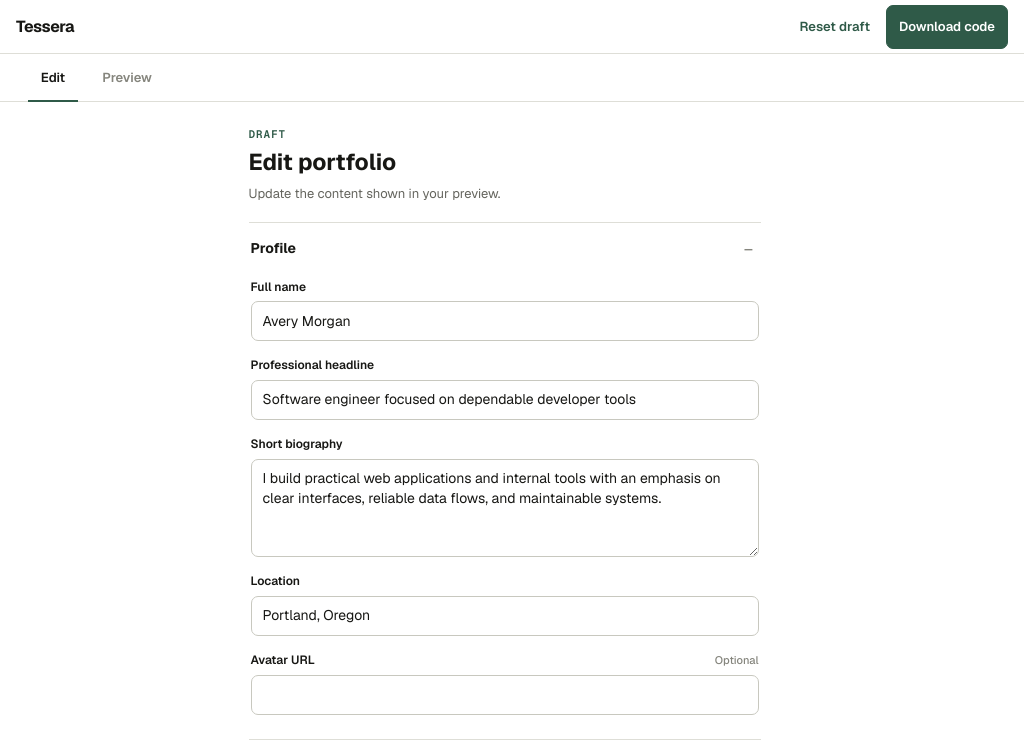
Test case: Tessera portfolio builder › interrupts paced success at a real failure and never downloads
The image size is (1024, 740).
Click the button "Download code": click(947, 26) [886,4,1008,48]
Wait 1700 ms
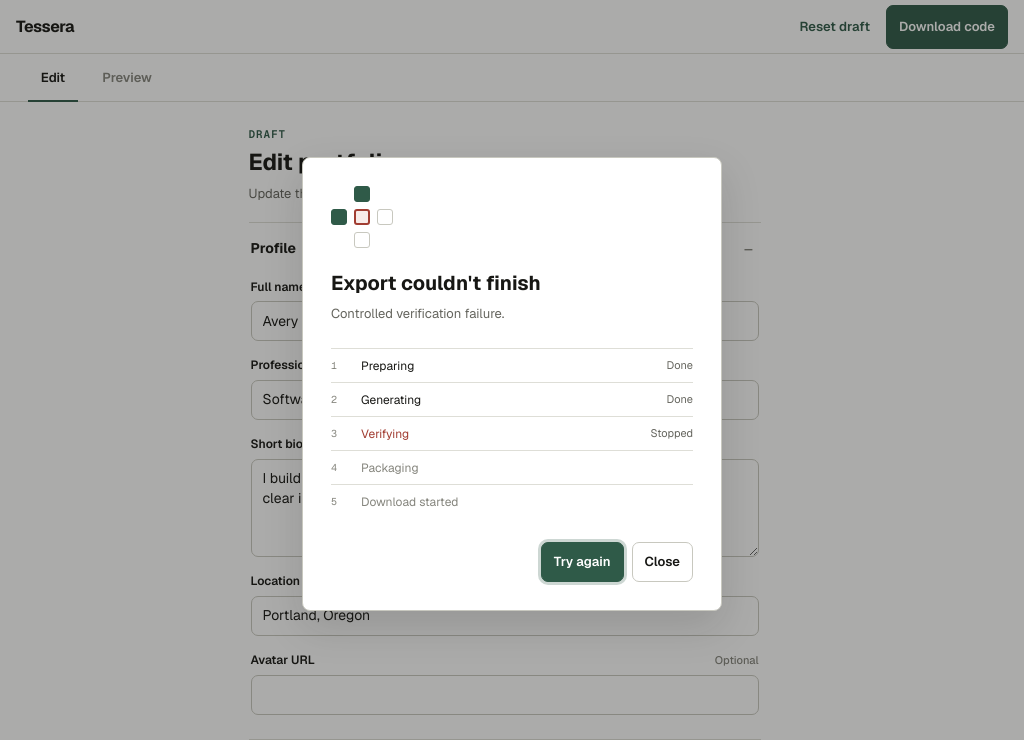
Expected: the list item "Generating" is shown, [361,392,421,408]
Expected: the text "Current" in the row of "Generating" is shown, [667,391,693,408]
Expected: the heading "Export couldn't finish" is shown, [331,270,541,296]
